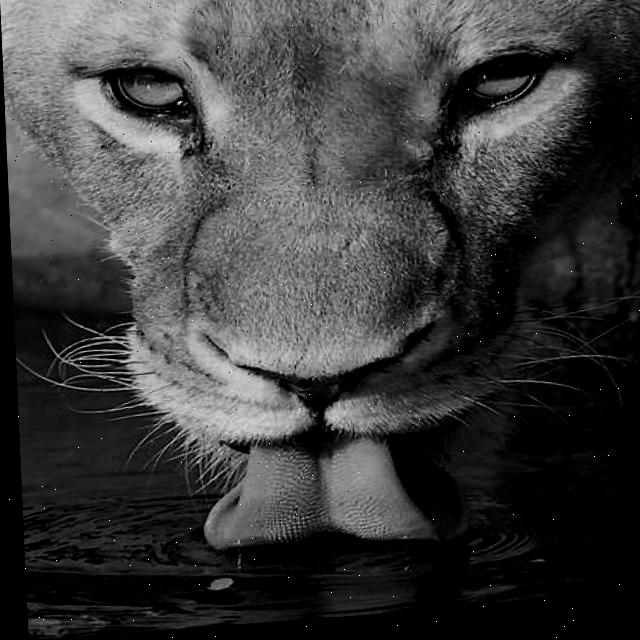Lion: (29, 0, 640, 614)
